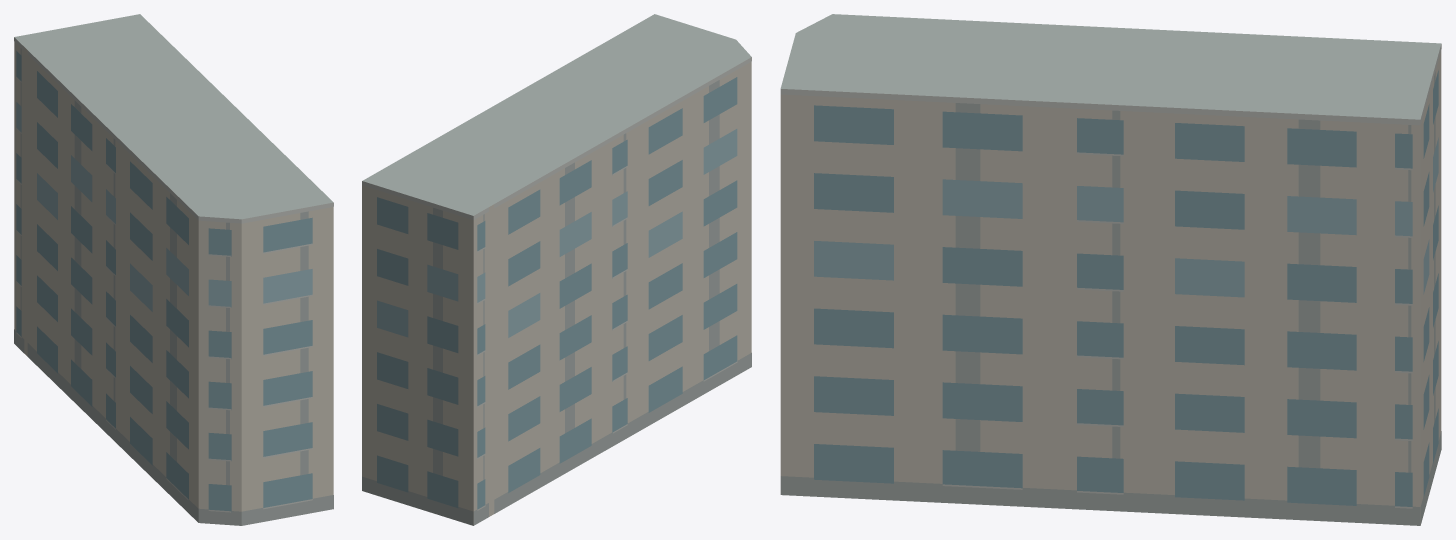
Rendered from survey-upis-33045925.glb.
The picture shows the model from 3 angles, left to right: view 1: azimuth 30°, elevation 25°; view 2: azimuth 150°, elevation 25°; view 3: azimuth 270°, elevation 25°; orthographic projection. The views are drawn at different scales.
Visible parts, largest first — view 1: survey-upis-33045925.tmp; view 2: survey-upis-33045925.tmp; view 3: survey-upis-33045925.tmp.
Boxes of the visible parts, x1=… form: survey-upis-33045925.tmp: x1=14, y1=14, x2=333, y2=525; survey-upis-33045925.tmp: x1=362, y1=14, x2=751, y2=525; survey-upis-33045925.tmp: x1=780, y1=14, x2=1441, y2=525.
Bounding box in the file's own units: 9.72 × 17.4 × 25.67.
